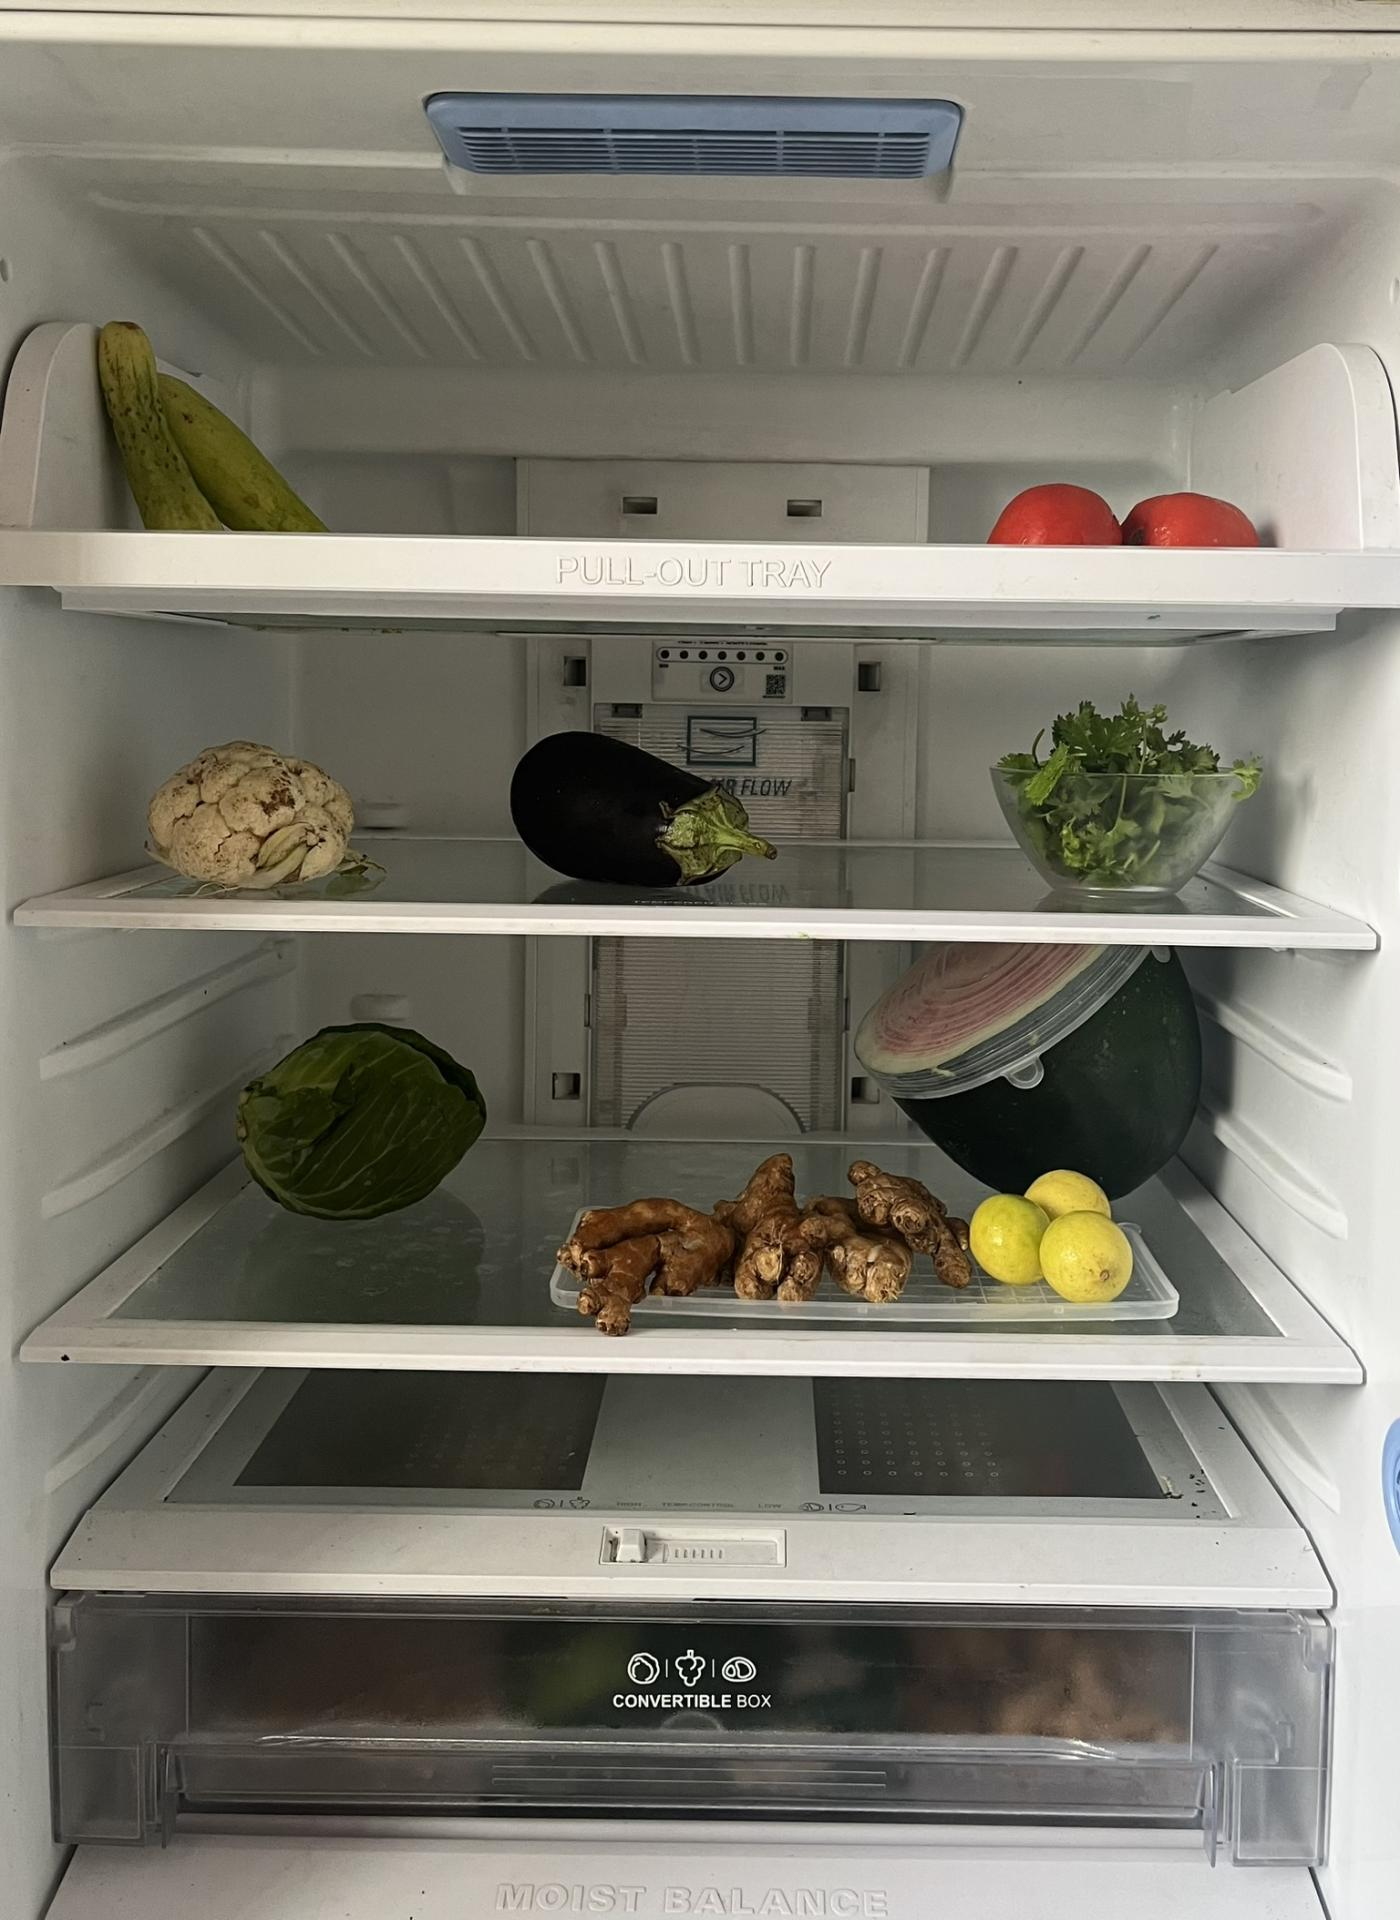cabbage: (231, 1015, 486, 1218)
cauliflower: (149, 741, 352, 887)
coriander: (999, 687, 1242, 887)
cucumber: (97, 316, 331, 528)
ginger: (571, 1154, 972, 1316)
lemon: (966, 1169, 1133, 1291)
tomato: (987, 465, 1267, 550)
watermelon: (875, 941, 1203, 1200)
